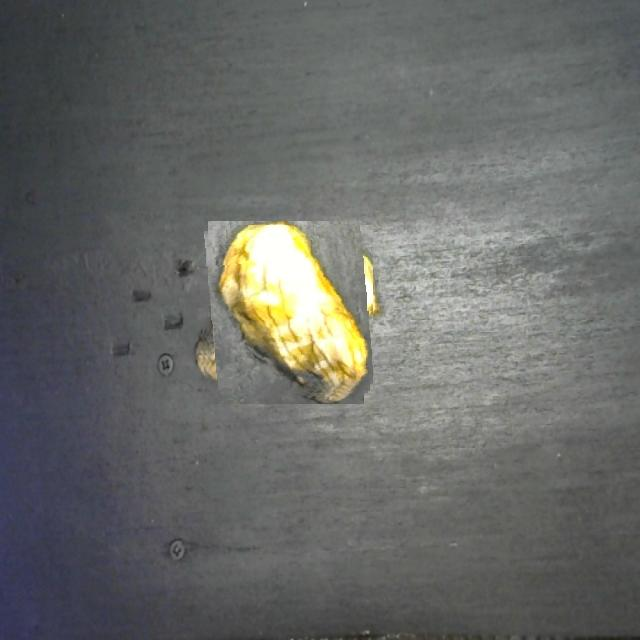biodegradable: (199, 225, 373, 399)
